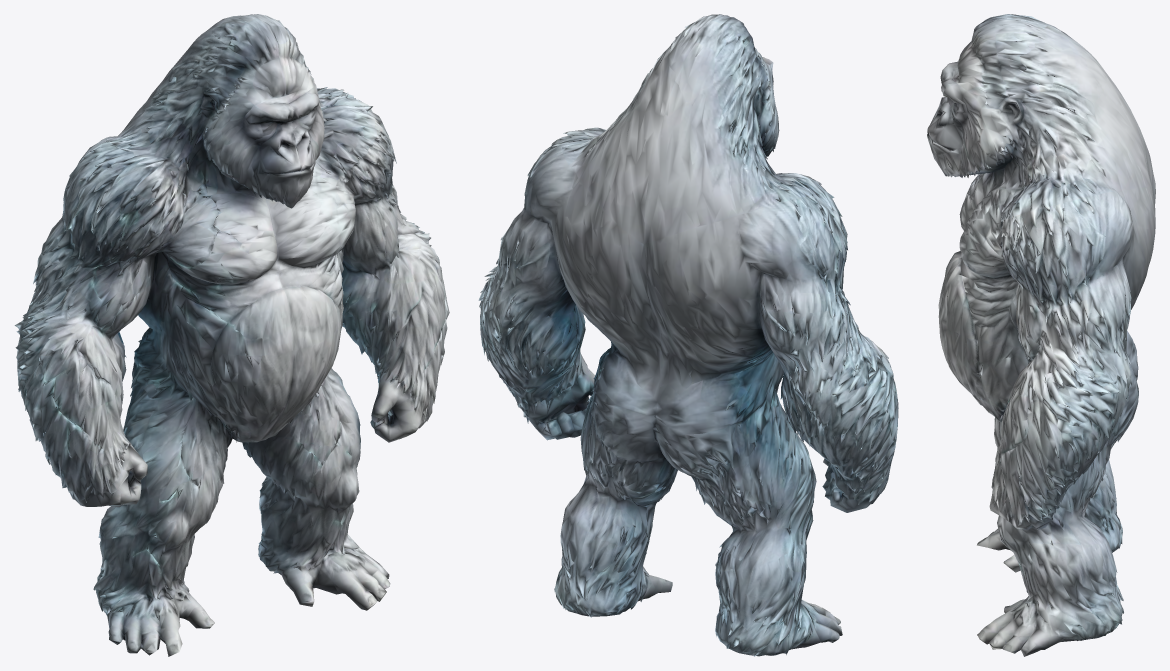
Rendered from goro_5.glb.
3 renders of one model, left to right at view 1: azimuth 30°, elevation 25°; view 2: azimuth 150°, elevation 25°; view 3: azimuth 270°, elevation 25°, orthographic. The views are drawn at different scales.
Bounding box in the file's own units: 0.7074 × 0.9787 × 0.3507.
1 material, 1 textured.
